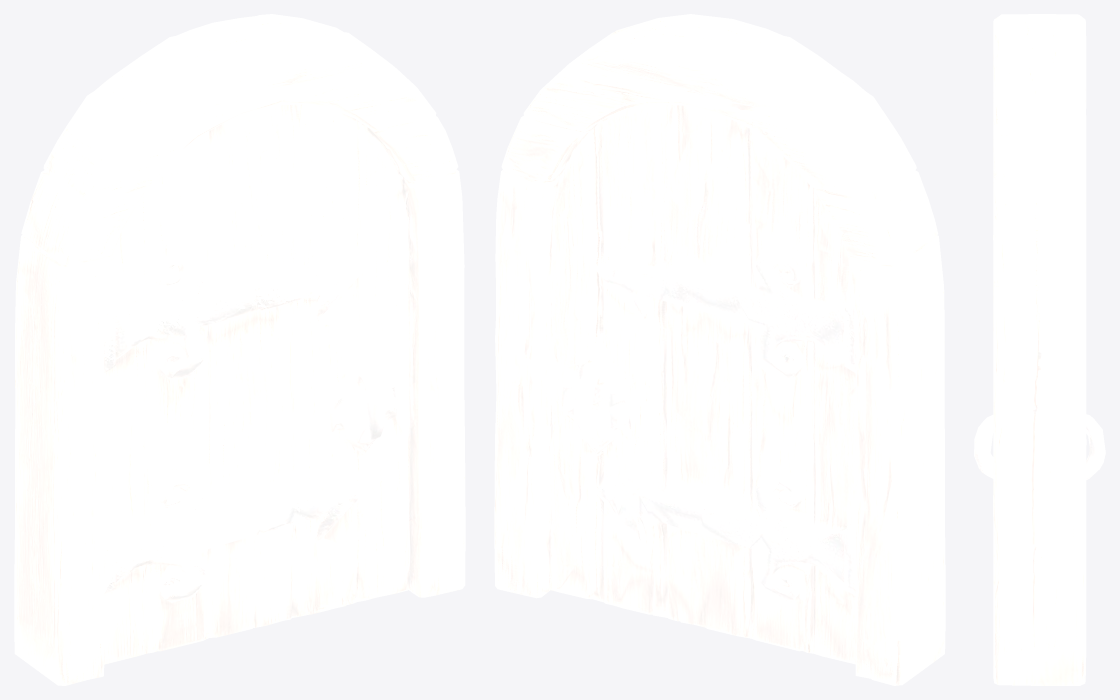
File: door.glb
The picture shows the model from 3 angles, left to right: view 1: azimuth 30°, elevation 25°; view 2: azimuth 150°, elevation 25°; view 3: azimuth 270°, elevation 25°; orthographic projection. The views are drawn at different scales.
Size of the model in its own units: 1.39 by 1.9 by 0.4068.
Materials: 1 (1 with a texture image).
